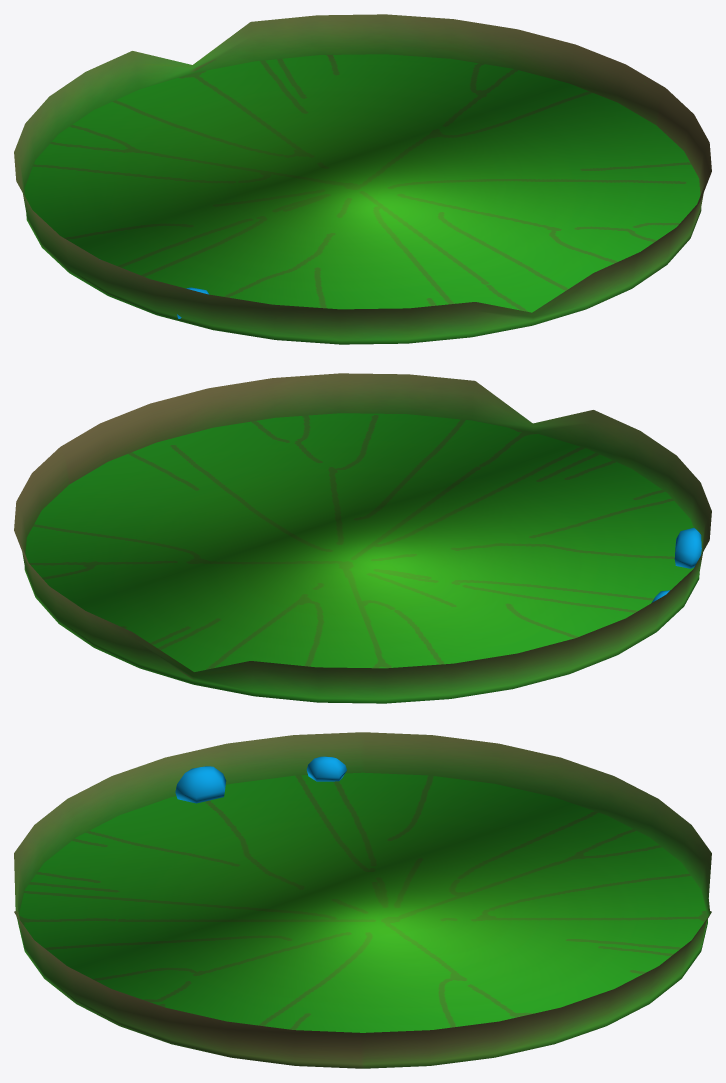
File: WaterLily.fbx
3 renders of one model, top to bottom at view 1: azimuth 30°, elevation 25°; view 2: azimuth 150°, elevation 25°; view 3: azimuth 270°, elevation 25°, orthographic.
Parts seen in each view (by area): view 1: Cylinder; view 2: Cylinder, Sphere; view 3: Cylinder, Sphere, Sphere.001.
Part boxes in pixels (left/top/right/bottom): Cylinder: left=14, top=14, right=711, bottom=344; Cylinder: left=14, top=373, right=711, bottom=703; Sphere: left=674, top=528, right=701, bottom=568; Cylinder: left=14, top=732, right=711, bottom=1068; Sphere: left=175, top=766, right=226, bottom=803; Sphere.001: left=306, top=756, right=346, bottom=781.
Size of the model in its own units: 206 by 12.94 by 202.
Materials: 3 (1 with a texture image).
